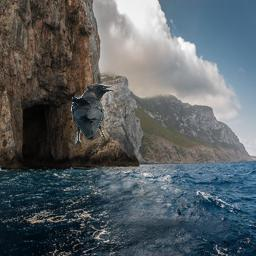Crow: (71, 82, 114, 150)
